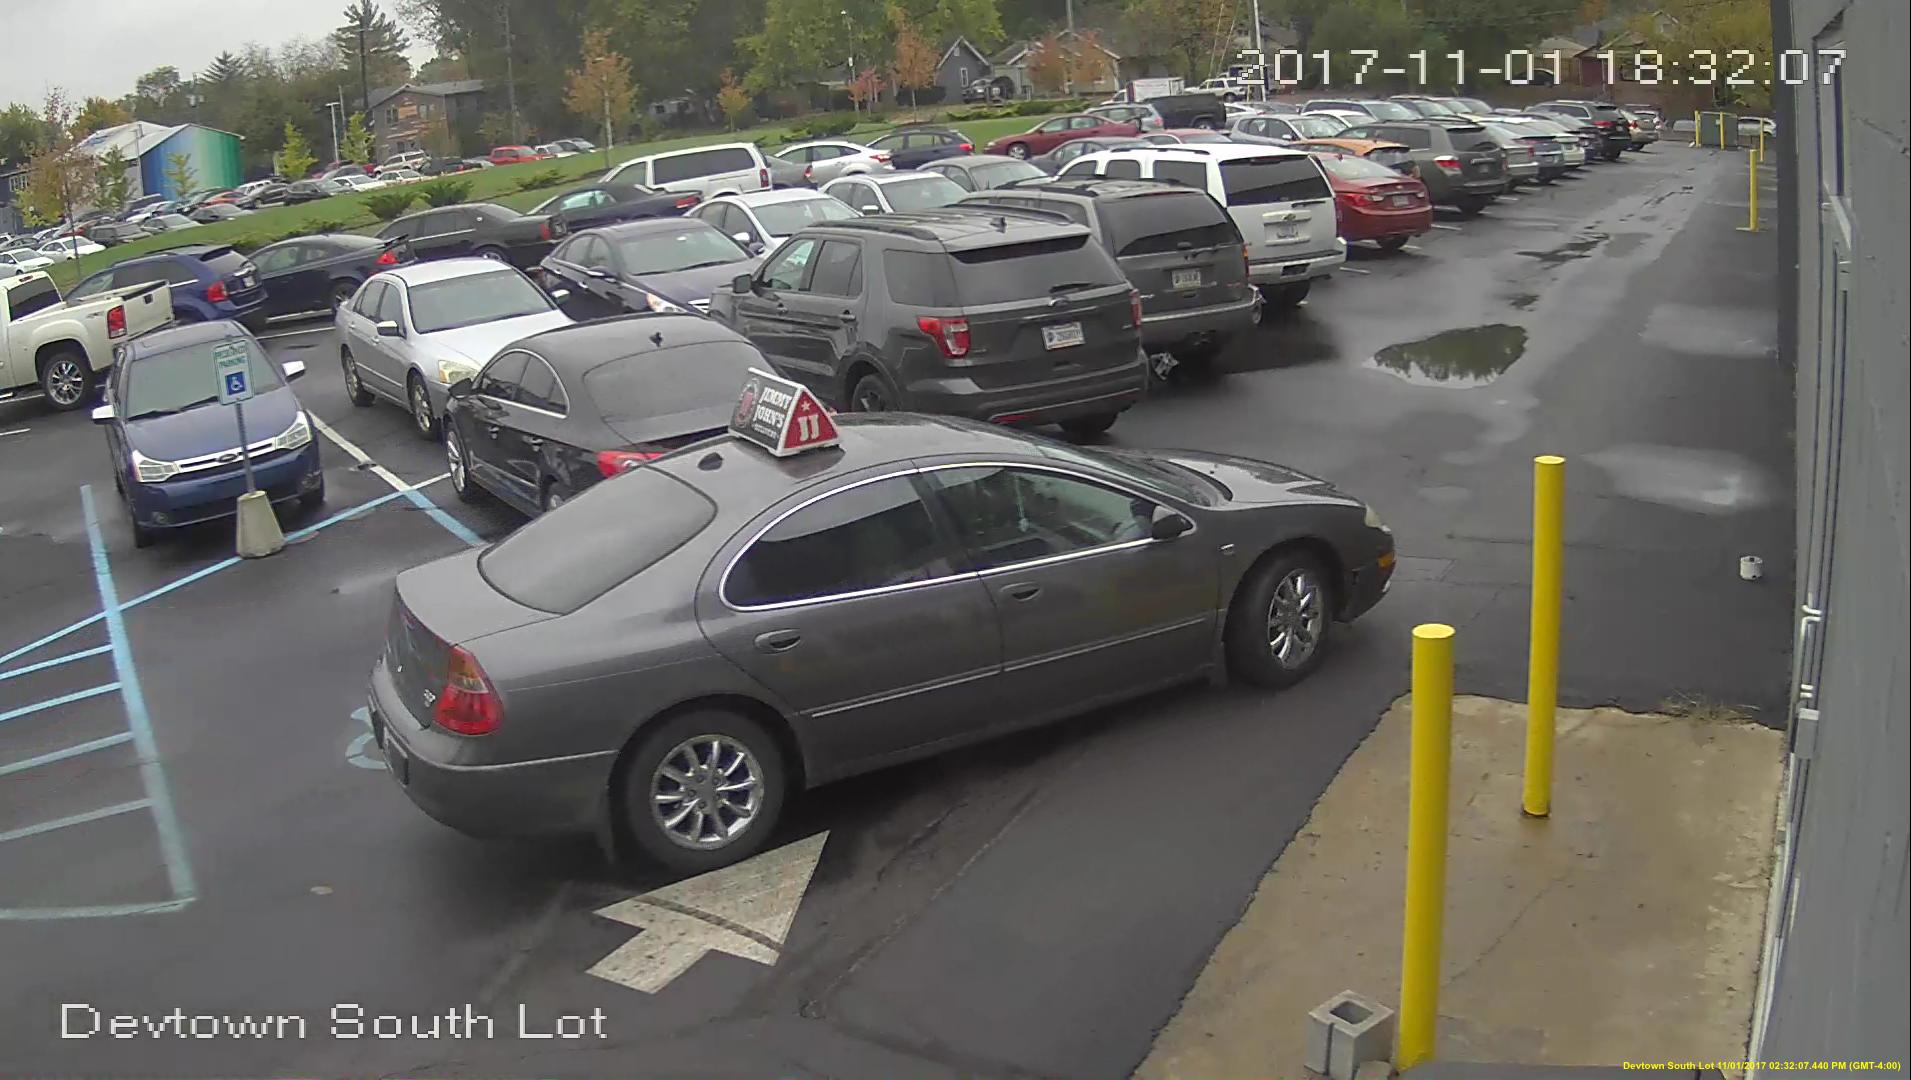jimmy_johns: (728, 367, 836, 461)
